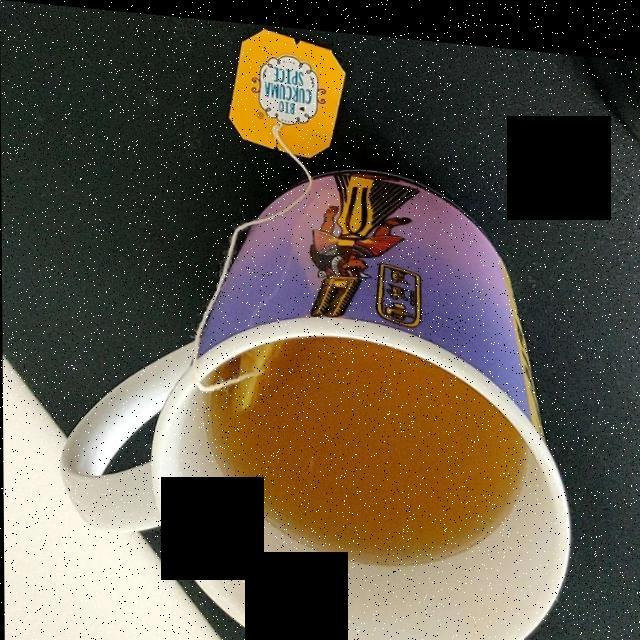tea: (216, 336, 521, 553)
